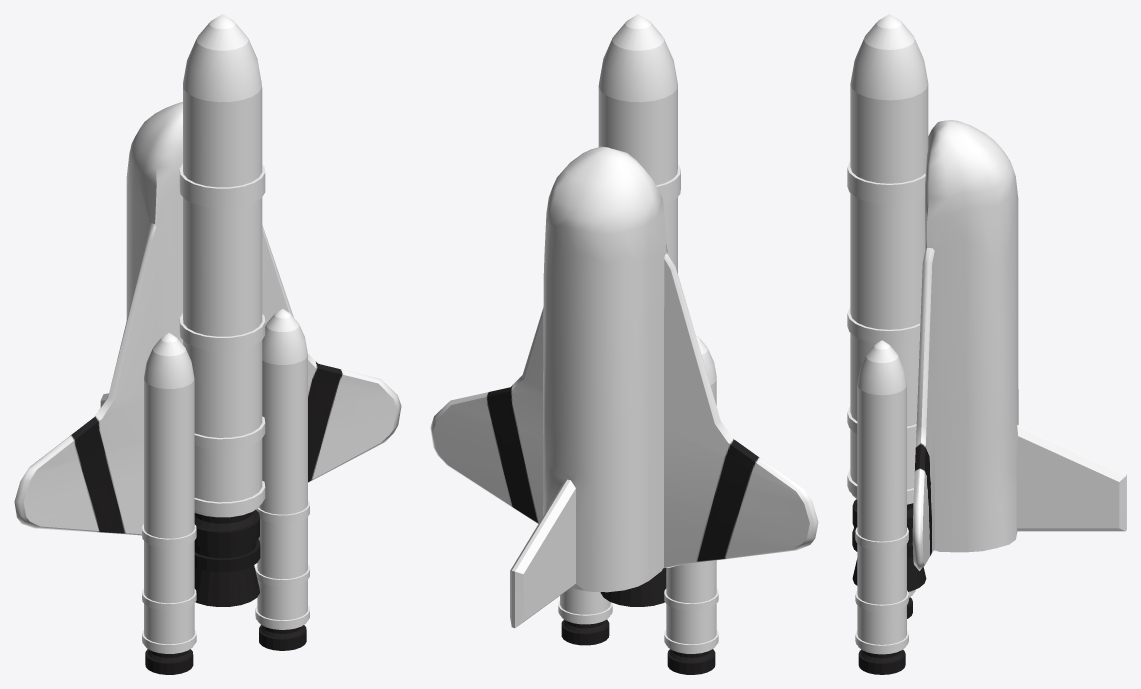
File: Space Shuttle.fbx
3 views of the same model, side by side, from view 1: azimuth 30°, elevation 25°; view 2: azimuth 150°, elevation 25°; view 3: azimuth 270°, elevation 25° (orthographic). The views are drawn at different scales.
Parts seen in each view (by area): view 1: models_f19:models_f18:models_f17:models_f16:models_f15:model (×4); view 2: models_f19:models_f18:models_f17:models_f16:models_f15:model (×4); view 3: models_f19:models_f18:models_f17:models_f16:models_f15:model (×3).
Boxes of the visible parts, x1,y1,x2,y2 form: models_f19:models_f18:models_f17:models_f16:models_f15:model (×4): (14, 14, 401, 674); models_f19:models_f18:models_f17:models_f16:models_f15:model (×4): (430, 14, 818, 674); models_f19:models_f18:models_f17:models_f16:models_f15:model (×3): (847, 14, 1126, 674).
Bounding box in the file's own units: 16.62 × 26.13 × 10.6.
